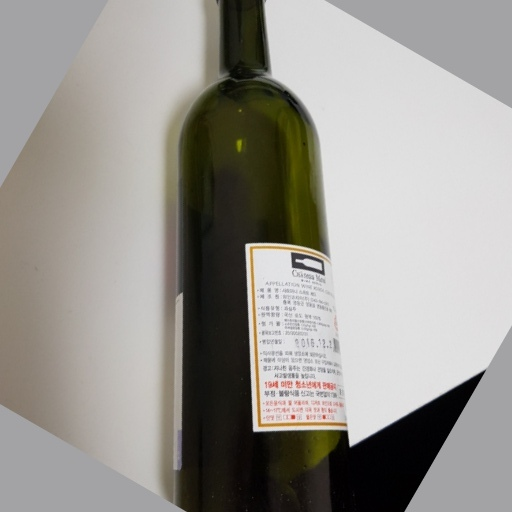Glass_2: (166, 1, 355, 512)
